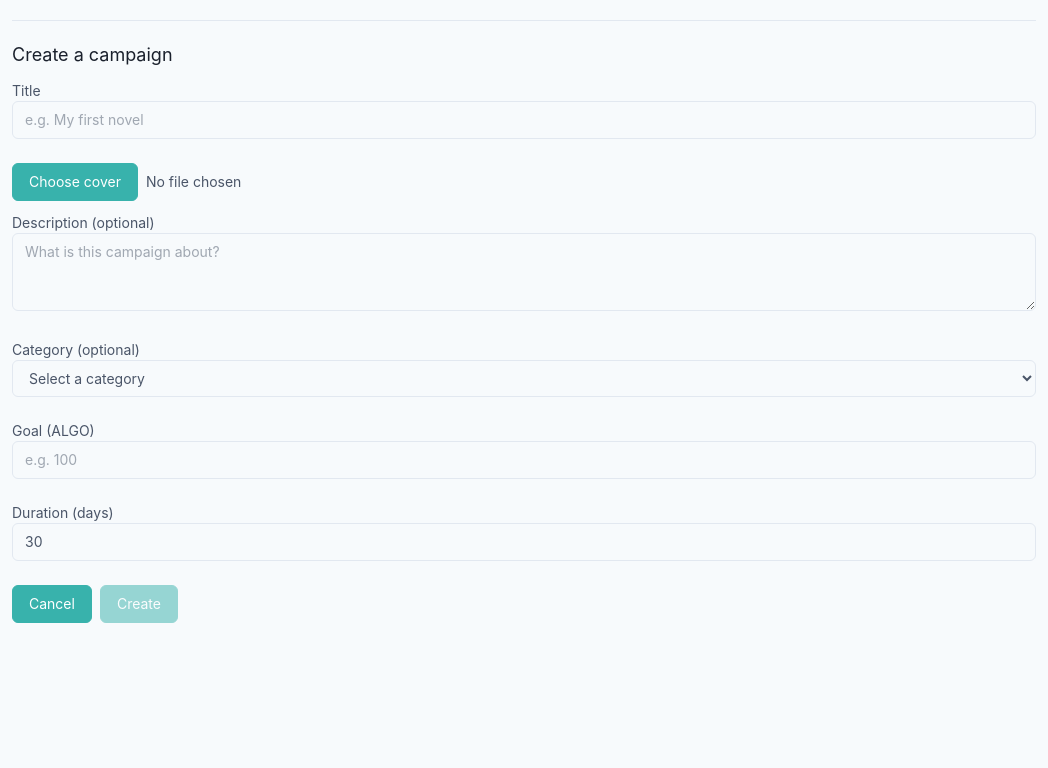
Test: CreateCampaignForm › shows an error for an invalid duration
Type "My first novel" into the field labelled "Title". click: (524, 120)
box: [12, 101, 1036, 139]
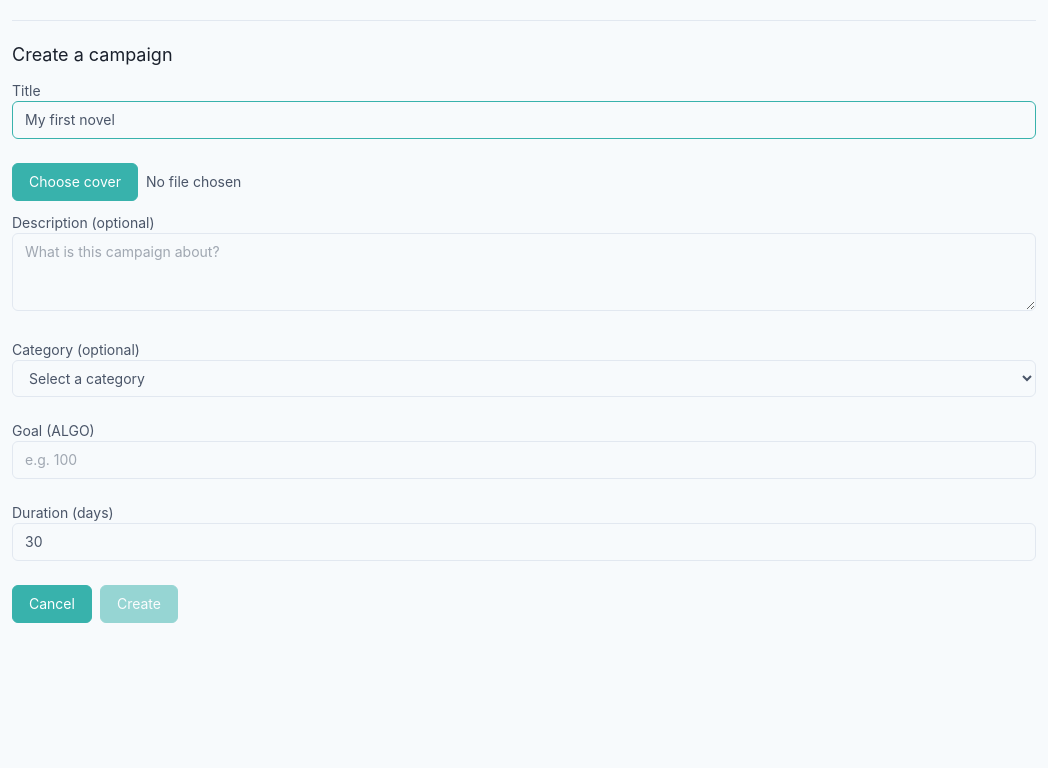
Type "10" into the number field with placeholder "e.g. 100". click: (524, 460)
box: [12, 441, 1036, 479]
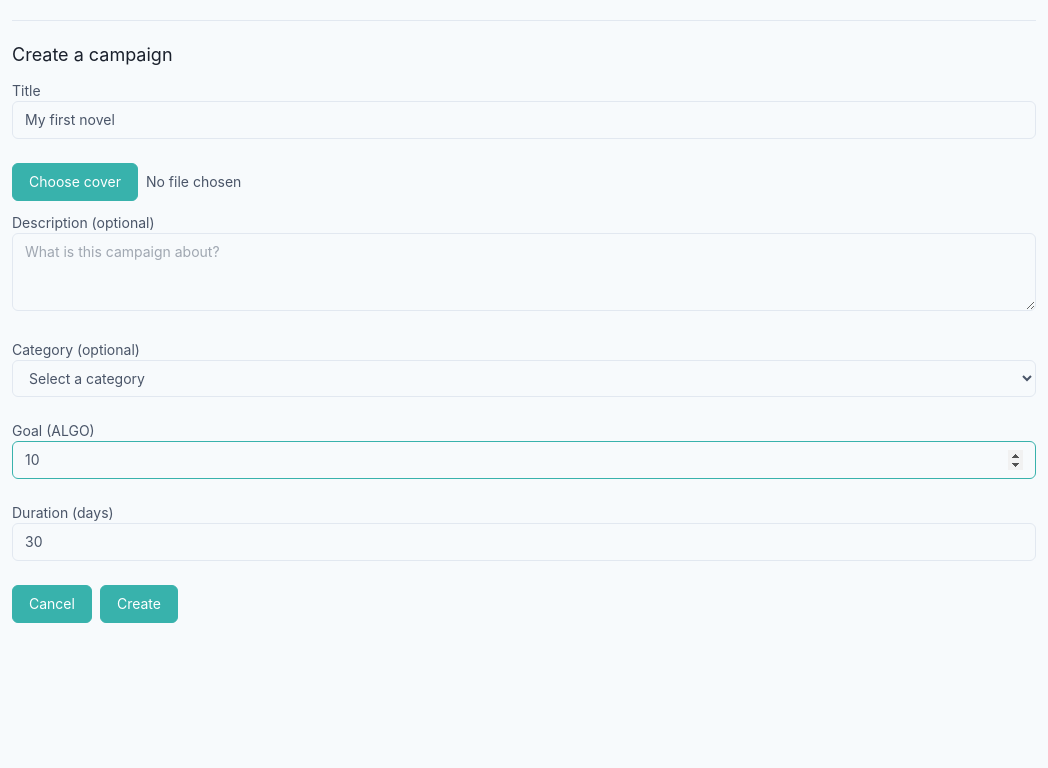
Replace the text in the number field labelled "Duration (days)" with "0". click: (524, 542)
box: [12, 523, 1036, 561]
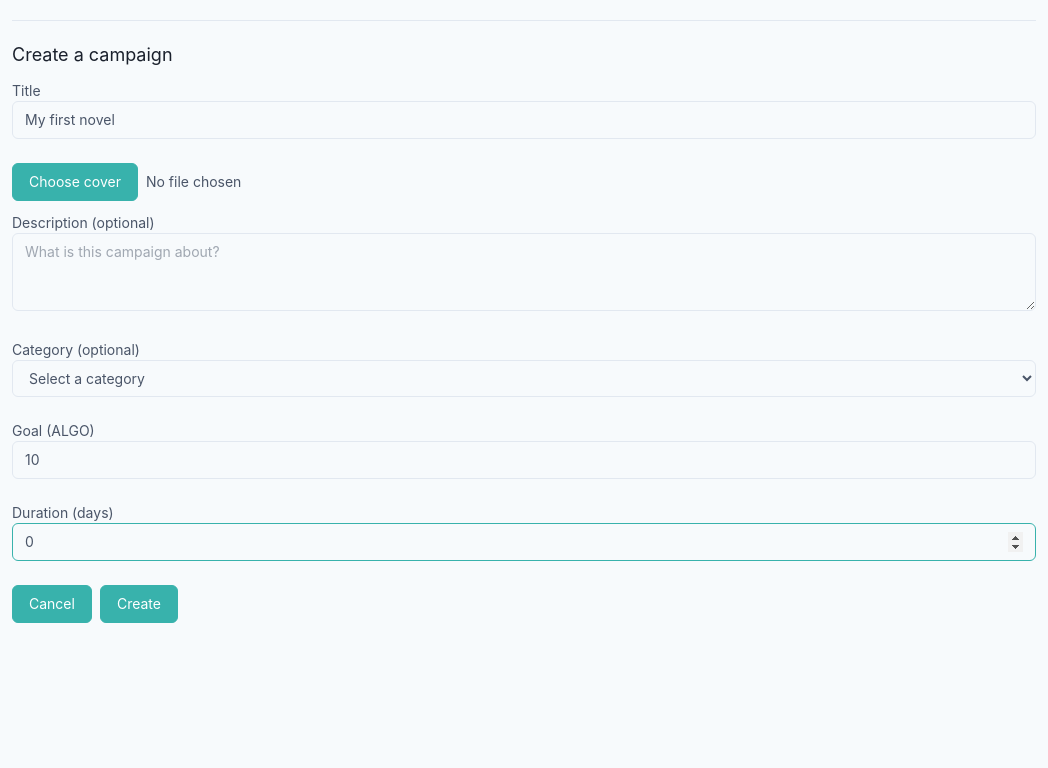
Click the button "Create". click: (139, 604)
box: [100, 585, 178, 623]
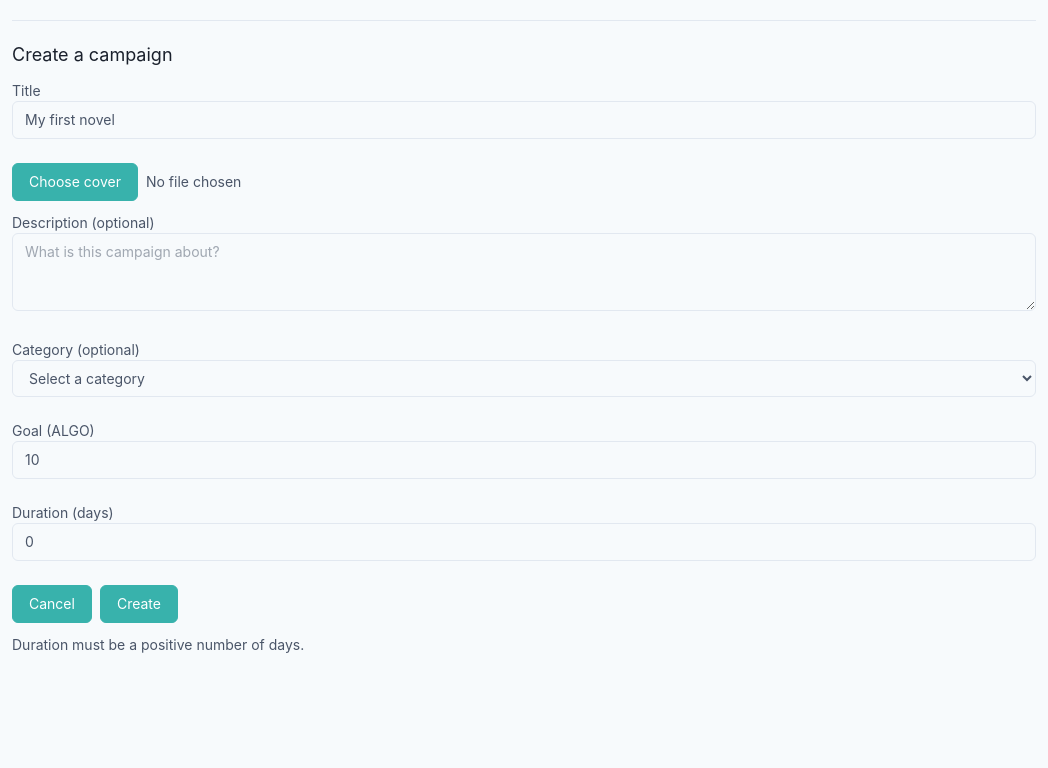
Expected: the text "Duration must be a positive number of days." is shown, [12, 636, 304, 653]
